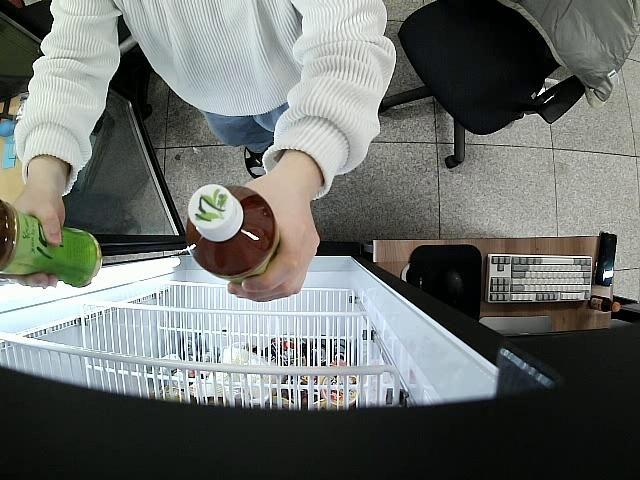19_17cha: (0, 197, 101, 288), (186, 184, 280, 280)
